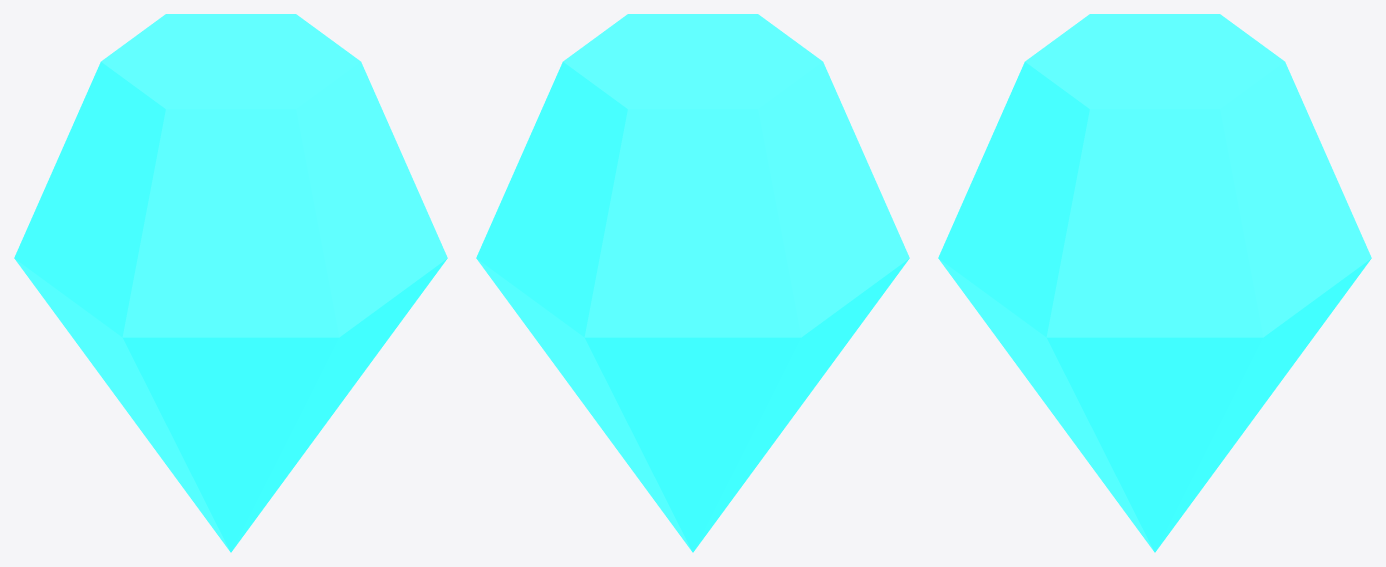
The model's file is gem.glb.
3 views of the same model, side by side, from view 1: azimuth 30°, elevation 25°; view 2: azimuth 150°, elevation 25°; view 3: azimuth 270°, elevation 25° (orthographic).
Visible parts, largest first — view 1: gem; view 2: gem; view 3: gem.
Part boxes in pixels (x1,y1,x2,y2): gem: (14,14,447,552); gem: (476,14,909,552); gem: (938,14,1371,552).
Size of the model in its own units: 0.5196 by 0.75 by 0.6.
